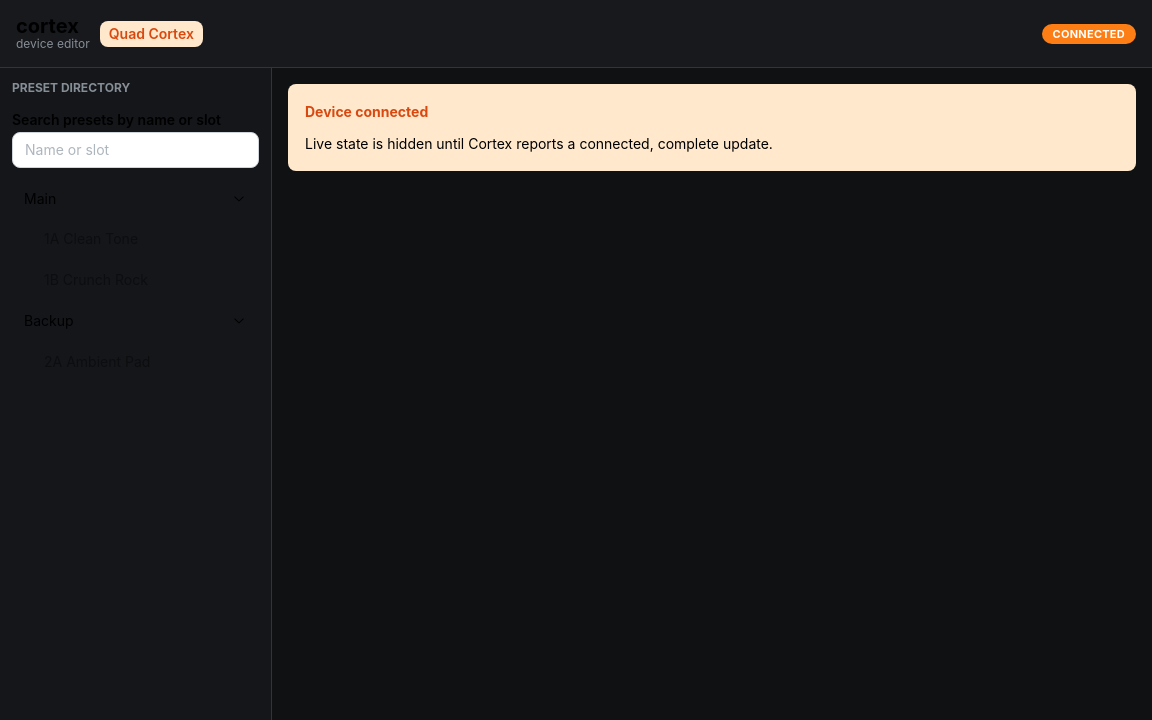
preset directory search › filters by preset name, case-insensitively, and omits empty setlist groups
Type "CLEAN" into the search field labelled "Search presets by name or slot". click: (136, 150)
box: 12,132 -> 259,168
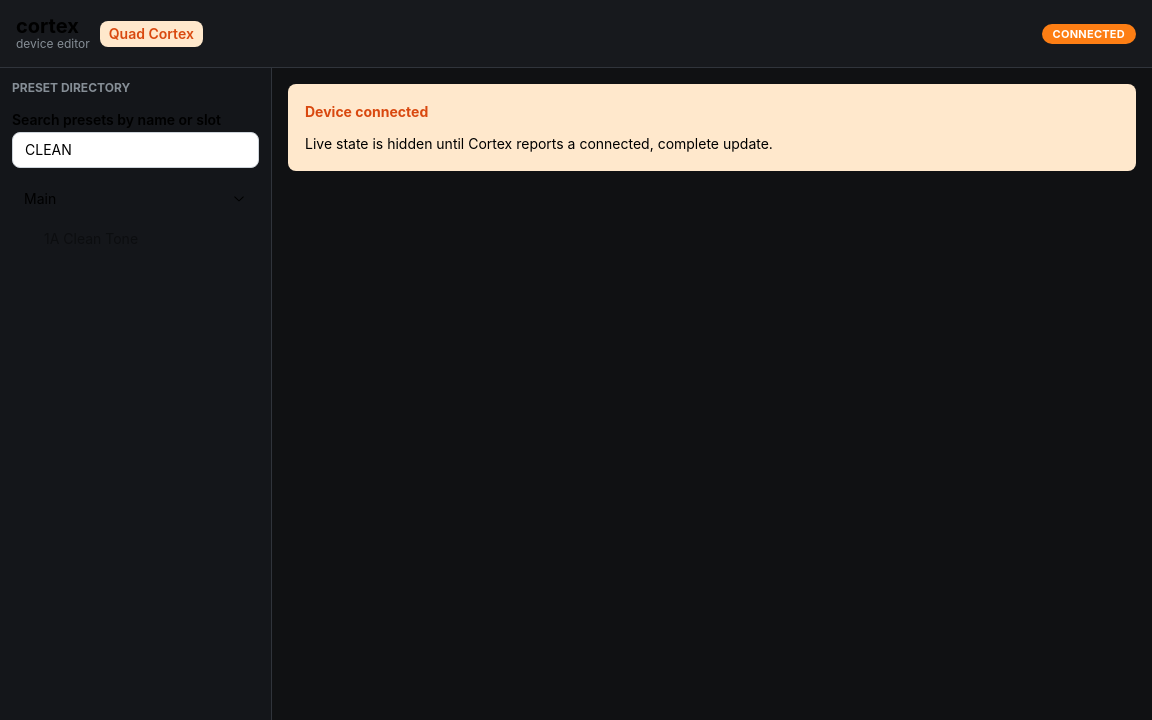
Expected: the button "1B Crunch Rock" is not shown
Now the button "Backup" is gone
